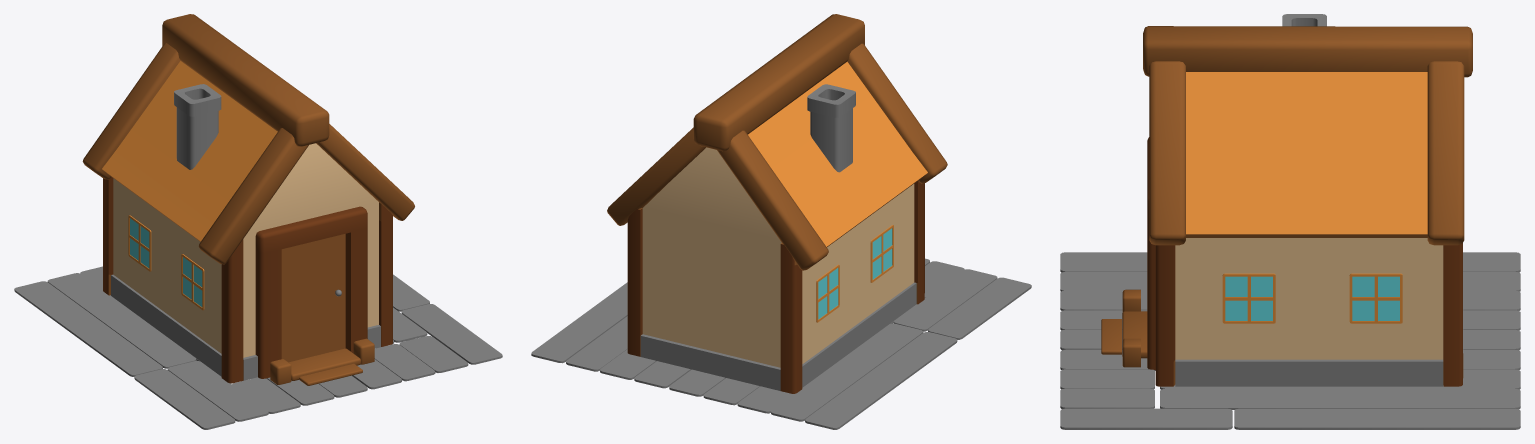
The model's file is hut11.fbx.
3 renders of one model, left to right at view 1: azimuth 30°, elevation 25°; view 2: azimuth 150°, elevation 25°; view 3: azimuth 270°, elevation 25°, orthographic. The views are drawn at different scales.
Parts seen in each view (by area): view 1: Sphere.001; view 2: Sphere.001; view 3: Sphere.001.
Part boxes in pixels (x1,y1,x2,y2): Sphere.001: (14, 14, 502, 429); Sphere.001: (531, 14, 1031, 429); Sphere.001: (1060, 14, 1520, 429).
Bounding box in the file's own units: 358 × 291 × 397.
